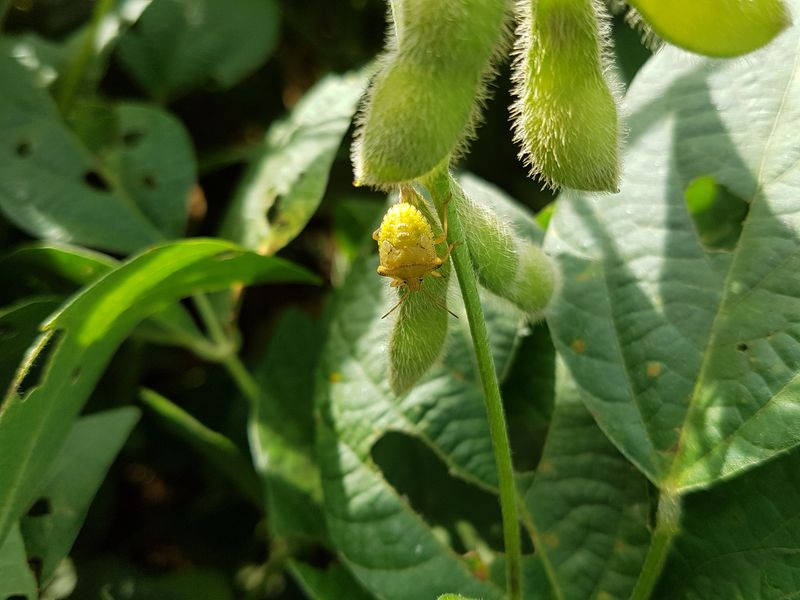Euschistus_heros_ninfa: (353, 175, 479, 332)
